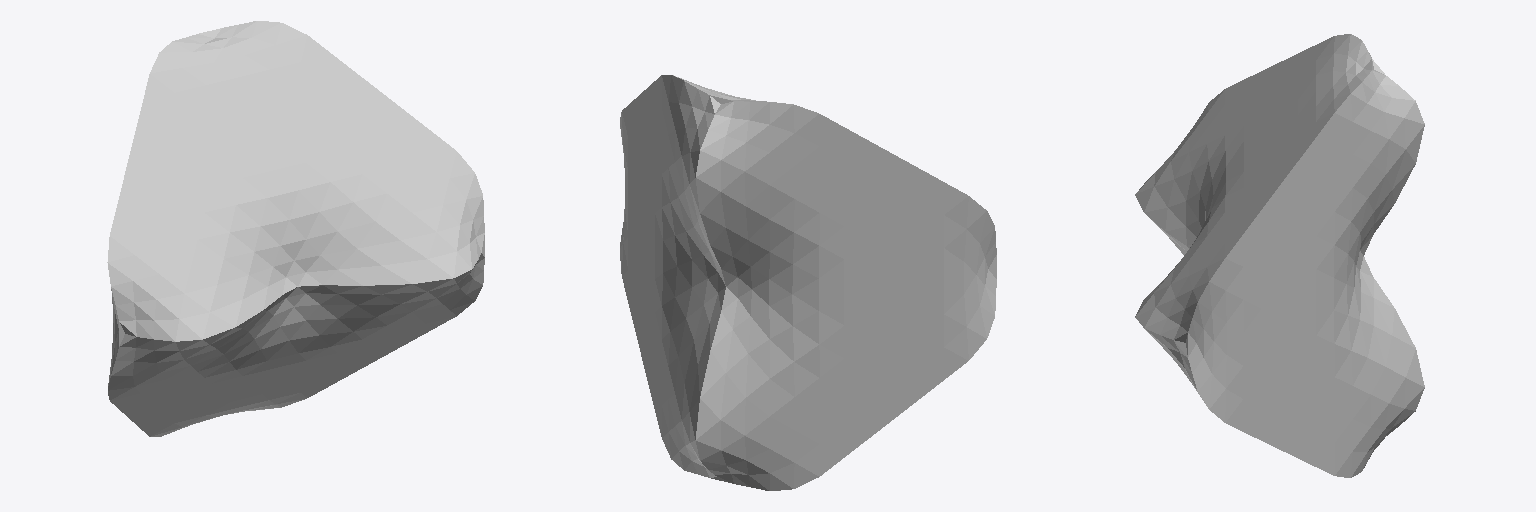
File: heart.obj
3 renders of one model, left to right at view 1: azimuth 30°, elevation 25°; view 2: azimuth 150°, elevation 25°; view 3: azimuth 270°, elevation 25°, orthographic.
Visible parts, largest first — view 1: Cube.004; view 2: Cube.004; view 3: Cube.004.
Part boxes in pixels (bbox=[...]): Cube.004: bbox=[107, 21, 484, 436]; Cube.004: bbox=[620, 75, 996, 490]; Cube.004: bbox=[1135, 34, 1424, 477].
Bounding box in the file's own units: 2.95 × 2.95 × 1.99.